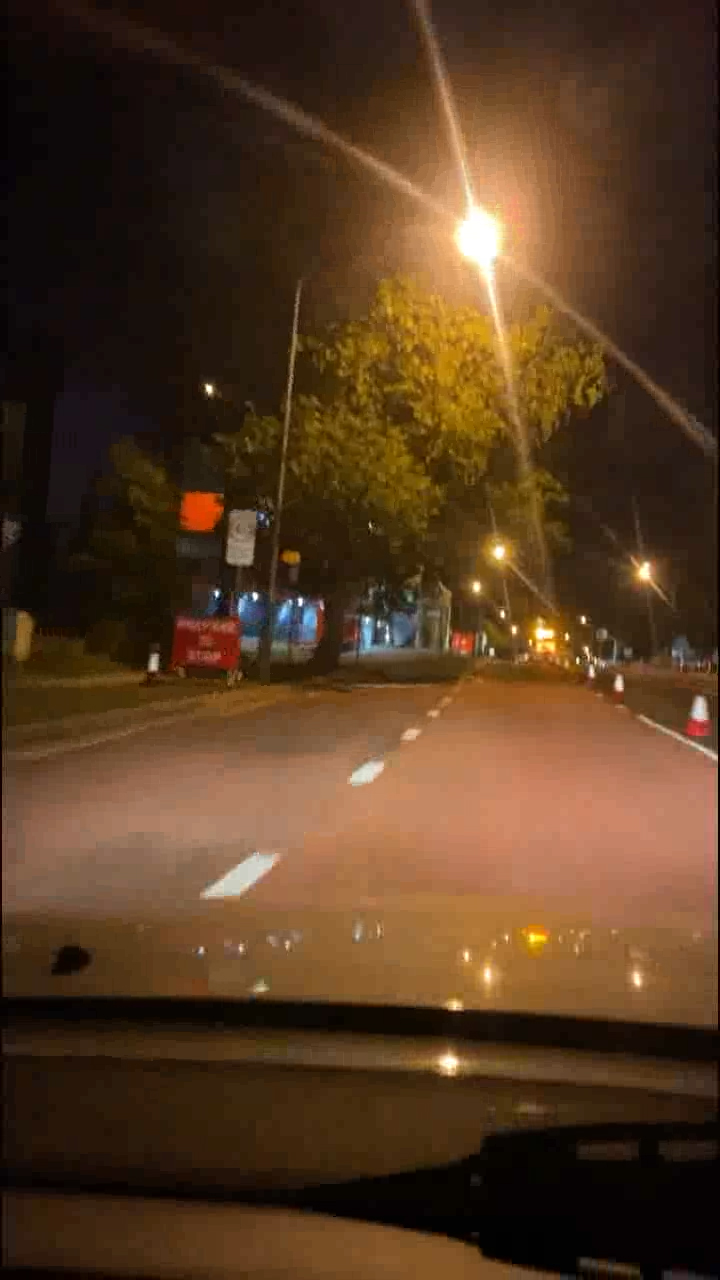prepare to stop board: (168, 613, 245, 675)
road cone: (679, 686, 720, 735), (604, 663, 633, 711), (574, 652, 589, 682)
